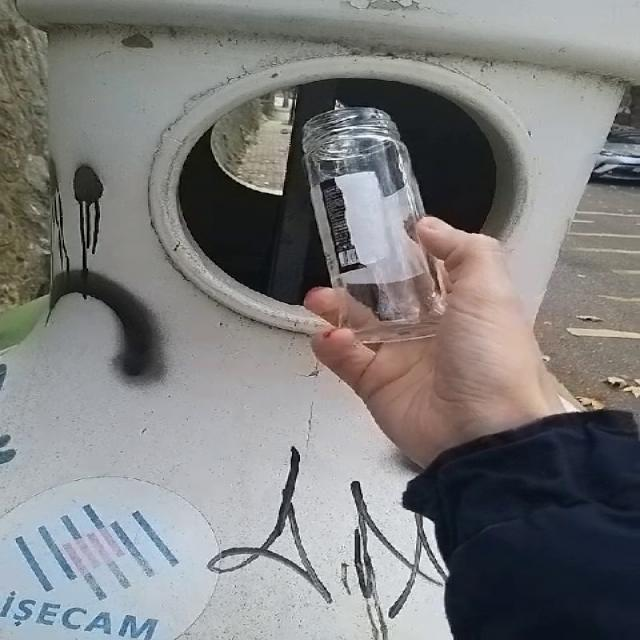glass: (304, 103, 445, 343)
